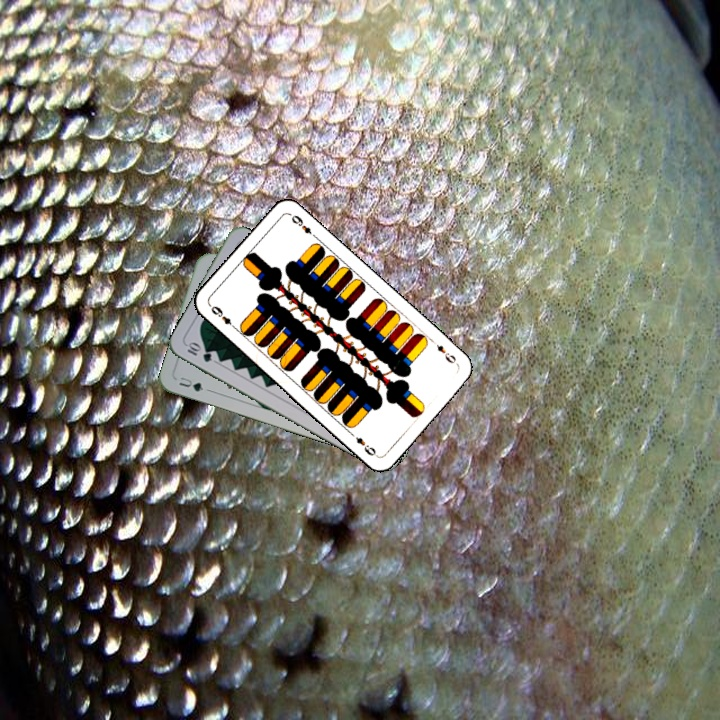E9: (427, 336, 460, 368), (206, 301, 239, 332)
G10: (183, 339, 215, 365)
GU: (175, 373, 206, 394)
